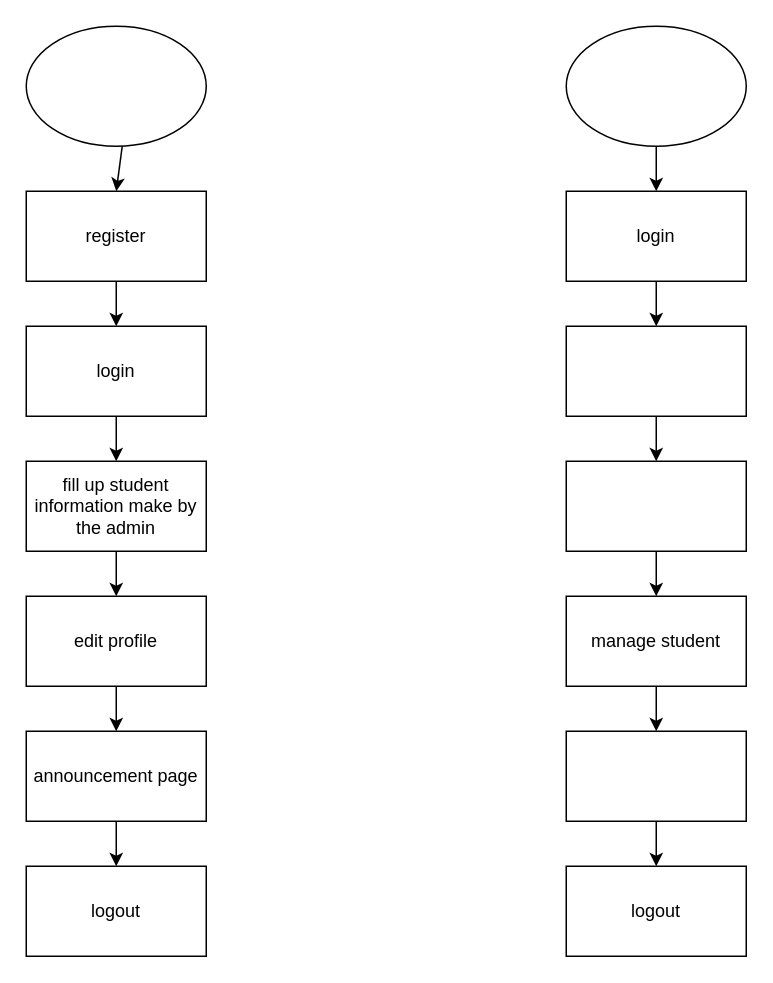
The diagram is 773 pixels wide and 983 high, and some of its shapes have lost their labels. The centre of each missing label's shape, as x and y in pixels:
admin: point (655, 85)
announcement / Post: point (655, 775)
dashboard: point (655, 370)
manage form: point (655, 505)
student: point (115, 85)
